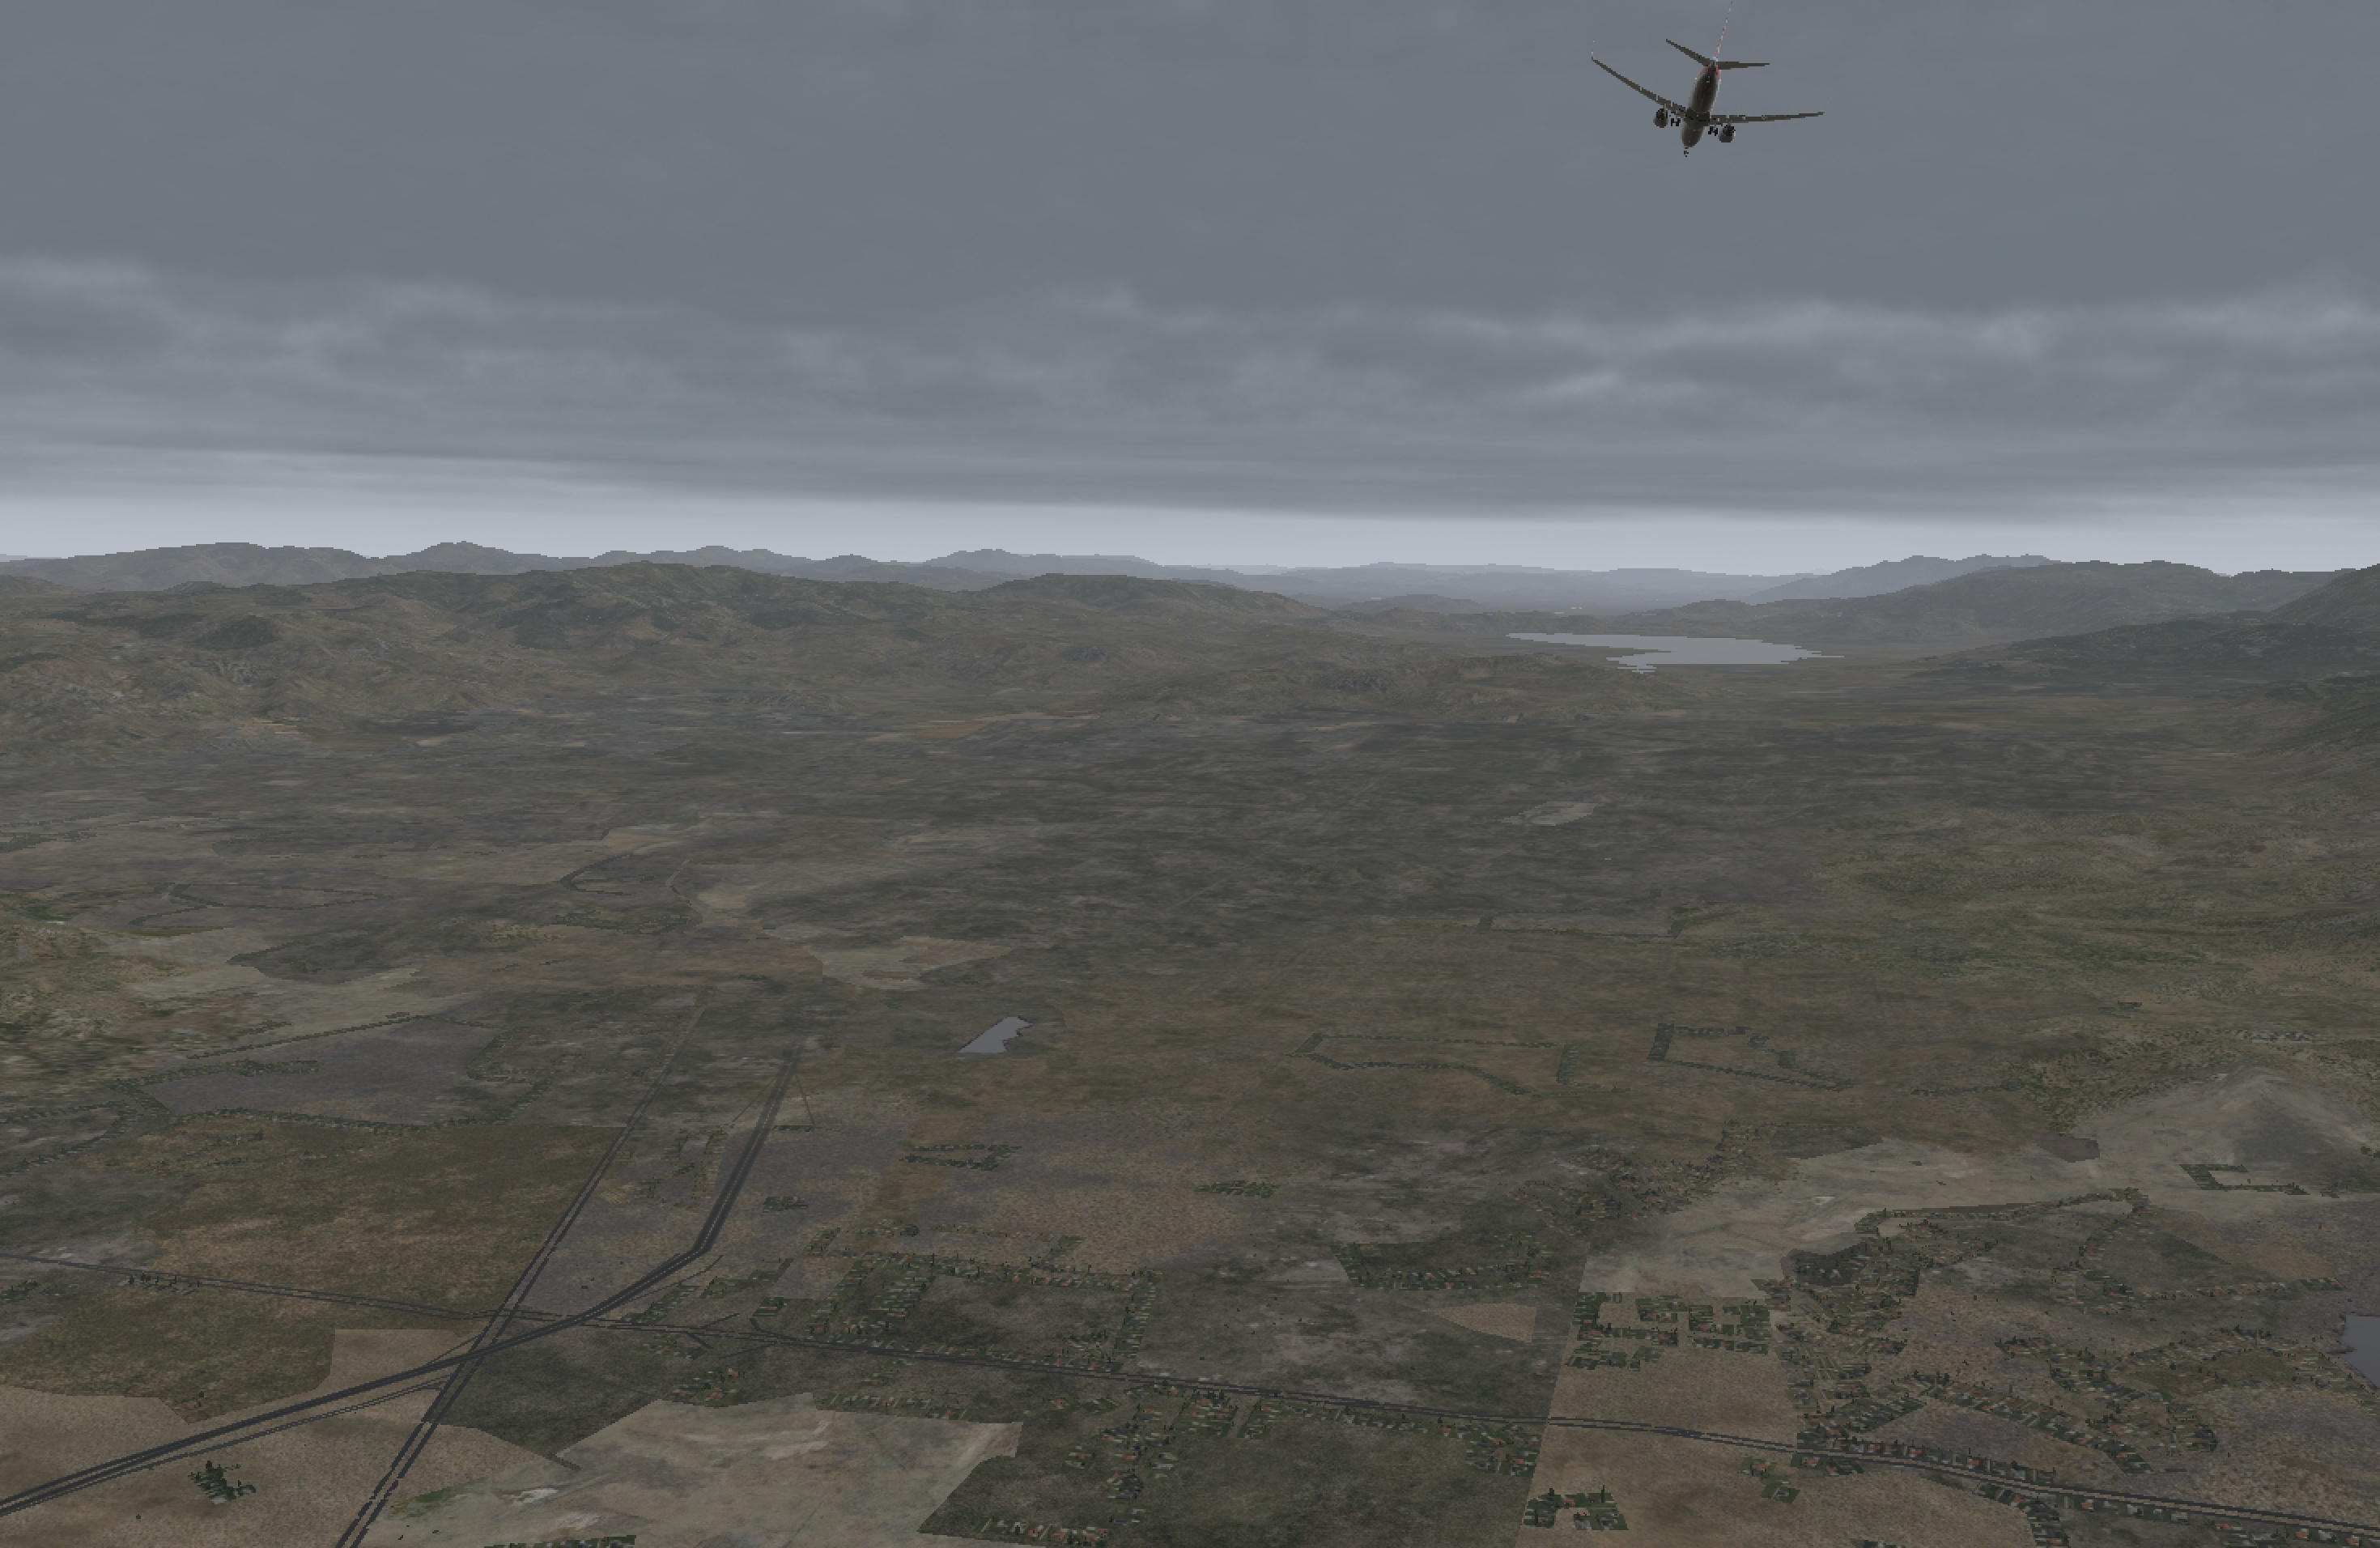aircraft: (1573, 66, 1823, 160)
